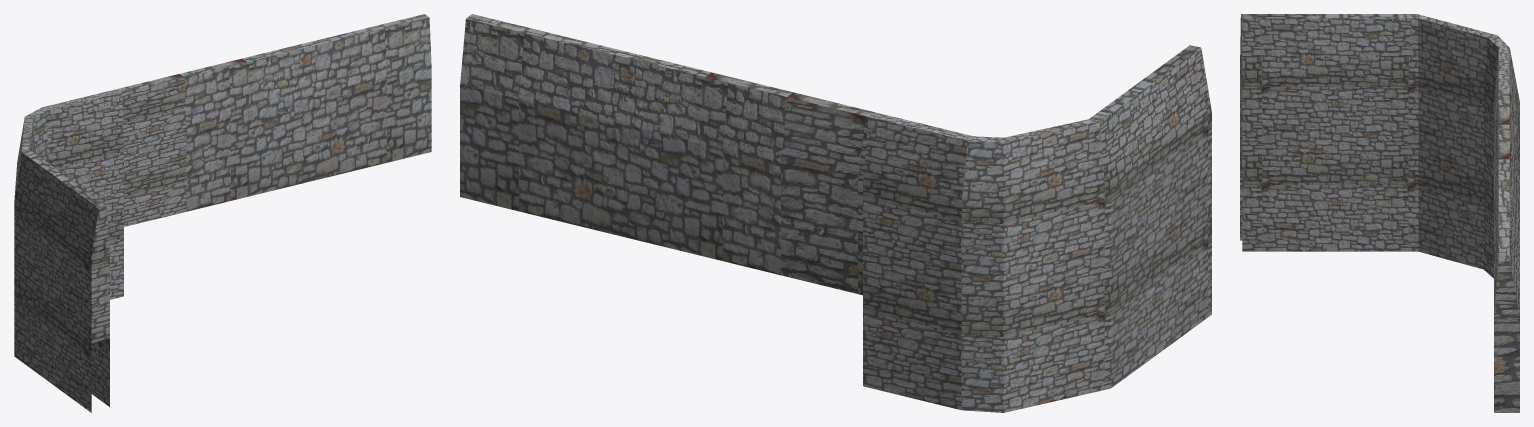
File: TrumpWall.fbx
3 renders of one model, left to right at view 1: azimuth 30°, elevation 25°; view 2: azimuth 150°, elevation 25°; view 3: azimuth 270°, elevation 25°, orthographic. The views are drawn at different scales.
Visible parts, largest first — view 1: polySurface60, polySurface63, polySurface59, polySurface62; view 2: polySurface60, polySurface63, polySurface62, polySurface59; view 3: polySurface60, polySurface63, polySurface59, polySurface62.
Boxes of the visible parts, x1=… form: polySurface60: x1=14, y1=89, x2=123, y2=412; polySurface63: x1=242, y1=14, x2=431, y2=196; polySurface59: x1=117, y1=74, x2=186, y2=226; polySurface62: x1=180, y1=58, x2=248, y2=211; polySurface60: x1=863, y1=45, x2=1211, y2=412; polySurface63: x1=460, y1=14, x2=710, y2=255; polySurface62: x1=699, y1=72, x2=792, y2=275; polySurface59: x1=781, y1=92, x2=874, y2=295; polySurface60: x1=1240, y1=14, x2=1519, y2=278; polySurface63: x1=1494, y1=159, x2=1519, y2=412; polySurface59: x1=1494, y1=89, x2=1519, y2=177; polySurface62: x1=1494, y1=124, x2=1519, y2=212.
Size of the model in its own units: 2093 by 897 by 985.
Materials: 1 (1 with a texture image).
